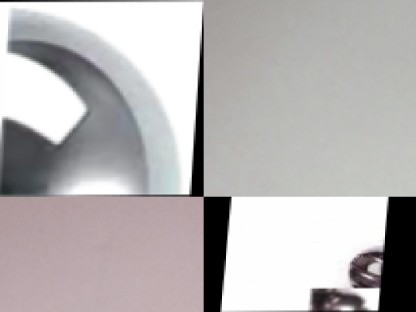ironball: (0, 0, 203, 196), (339, 242, 385, 288), (310, 287, 381, 311)
